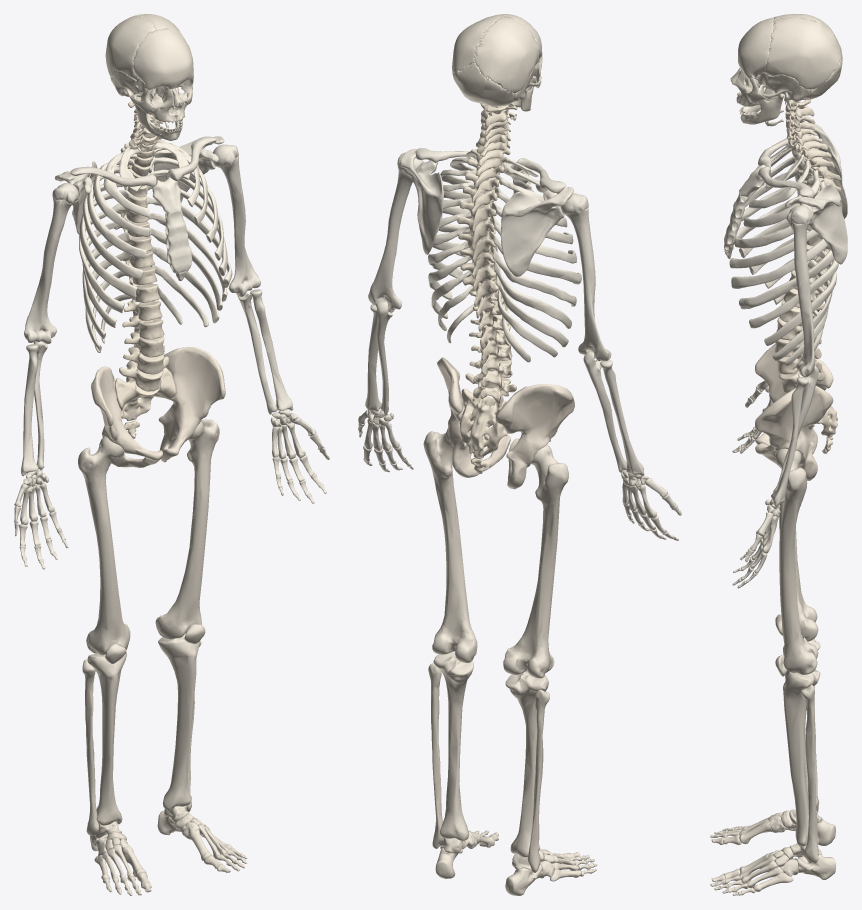
The model's file is authority-atlas-206.glb.
3 views of the same model, side by side, from view 1: azimuth 30°, elevation 25°; view 2: azimuth 150°, elevation 25°; view 3: azimuth 270°, elevation 25° (orthographic). The views are drawn at different scales.
Parts seen in each view (by area): view 1: bone:right-femur:1, bone:left-femur:1, bone:left-hip-bone:1, bone:left-tibia:1, bone:frontal-bone:1, bone:right-tibia:1, bone:right-humerus:1, bone:left-humerus:1, bone:right-hip-bone:1, bone:right-parietal-bone:1, bone:sacrum:1, bone:right-fibula:1 (+20 smaller); view 2: bone:right-femur:1, bone:left-femur:1, bone:right-hip-bone:1, bone:right-scapula:1, bone:right-parietal-bone:1, bone:left-tibia:1, bone:right-tibia:1, bone:right-humerus:1, bone:left-humerus:1, bone:left-hip-bone:1, bone:left-scapula:1, bone:sacrum:1 (+15 smaller); view 3: bone:left-femur:1, bone:left-parietal-bone:1, bone:left-tibia:1, bone:left-hip-bone:1, bone:left-humerus:1, bone:left-scapula:1, bone:left-fibula:1, bone:right-hip-bone:1, bone:frontal-bone:1, bone:left-radius:1, bone:right-femur:1, bone:left-rib-7:1 (+27 smaller).
Boxes of the visible parts, x1,y1,x2,y2 form: bone:right-femur:1: (78, 436, 130, 655); bone:left-femur:1: (155, 419, 219, 639); bone:left-hip-bone:1: (158, 347, 225, 462); bone:left-tibia:1: (158, 633, 200, 811); bone:frontal-bone:1: (133, 28, 193, 91); bone:right-tibia:1: (87, 652, 126, 825); bone:right-humerus:1: (24, 183, 78, 344); bone:left-humerus:1: (212, 144, 260, 296); bone:right-hip-bone:1: (91, 366, 162, 467); bone:right-parietal-bone:1: (105, 14, 157, 79); bone:sacrum:1: (115, 367, 175, 420); bone:right-fibula:1: (82, 659, 99, 835); bone:right-femur:1: (503, 444, 568, 678); bone:left-femur:1: (423, 428, 477, 662); bone:right-hip-bone:1: (495, 384, 574, 489); bone:right-scapula:1: (500, 187, 573, 276); bone:right-parietal-bone:1: (474, 16, 539, 93); bone:left-tibia:1: (433, 652, 473, 840); bone:right-tibia:1: (505, 671, 548, 857); bone:right-humerus:1: (561, 193, 611, 361); bone:left-humerus:1: (368, 152, 423, 312); bone:left-hip-bone:1: (437, 357, 510, 477); bone:left-scapula:1: (400, 149, 443, 254); bone:sacrum:1: (459, 388, 507, 458); bone:left-femur:1: (775, 448, 818, 674); bone:left-parietal-bone:1: (763, 17, 840, 89); bone:left-tibia:1: (783, 669, 820, 846); bone:left-hip-bone:1: (755, 386, 833, 480); bone:left-humerus:1: (786, 205, 815, 377); bone:left-scapula:1: (785, 183, 847, 264); bone:left-fibula:1: (800, 684, 818, 863); bone:right-hip-bone:1: (755, 343, 833, 453); bone:frontal-bone:1: (738, 17, 774, 78); bone:left-radius:1: (771, 377, 808, 506); bone:right-femur:1: (779, 470, 818, 641); bone:left-rib-7:1: (739, 249, 834, 309).
Size of the model in its own units: 0.6692 by 1.7 by 0.2501.
